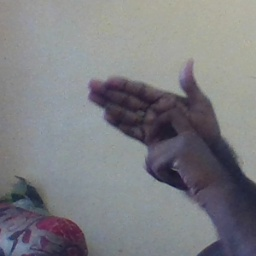R: (81, 56, 233, 188)
